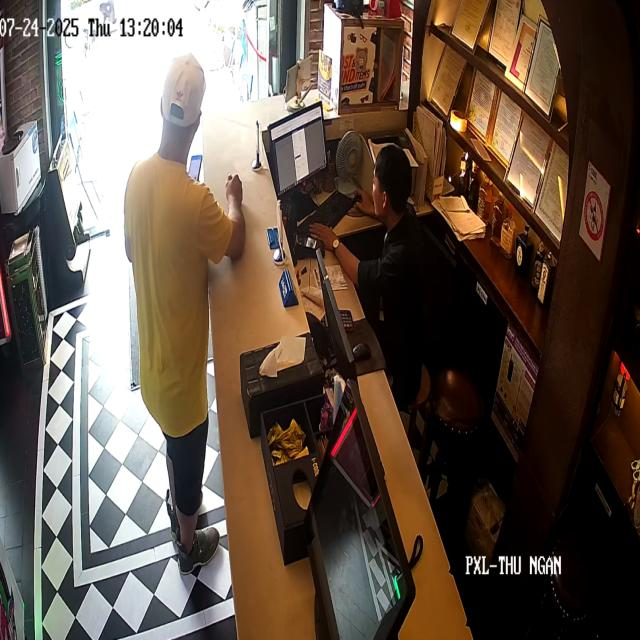khach: (130, 66, 237, 596)
nhan vien: (352, 125, 442, 371)
